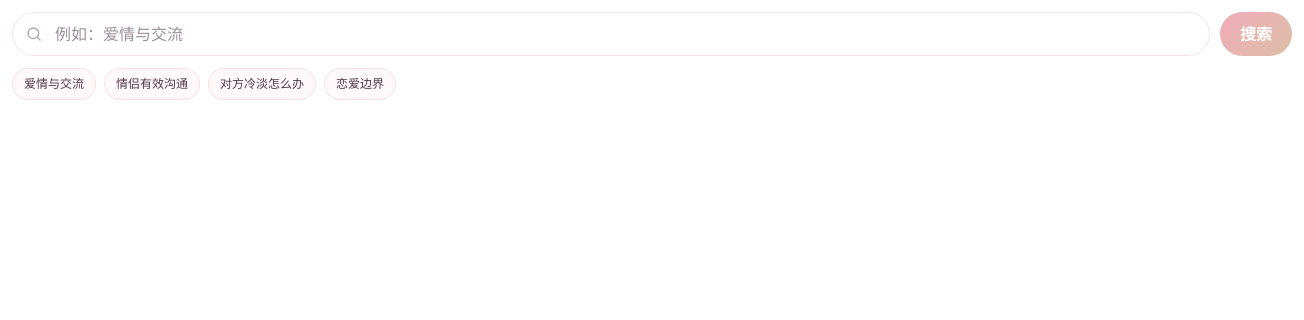
Test: ZhihuSearchPanel › shows result metadata and opens Zhihu in a new tab
Type "爱情与交流" into the field named "搜索知乎内容" at x=611, y=34, box [12,12,1210,56]
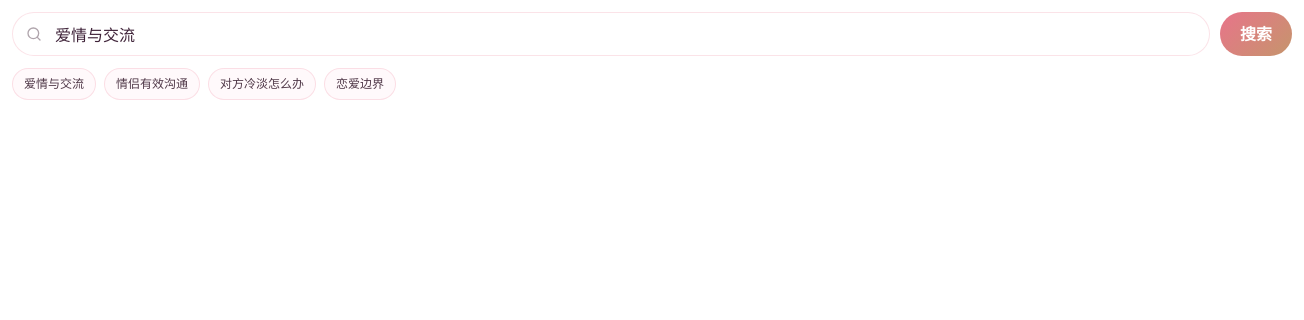
Click the button "搜索" at x=1256, y=34, box [1220,12,1292,56]
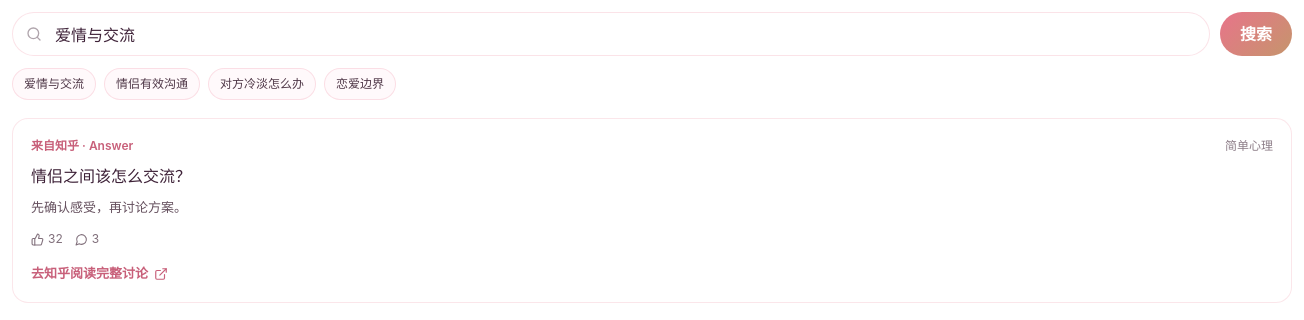
Expected: the heading "情侣之间该怎么交流？" is shown, [31,166,191,186]
Expected: the text "简单心理" is shown, [1225,137,1273,155]
